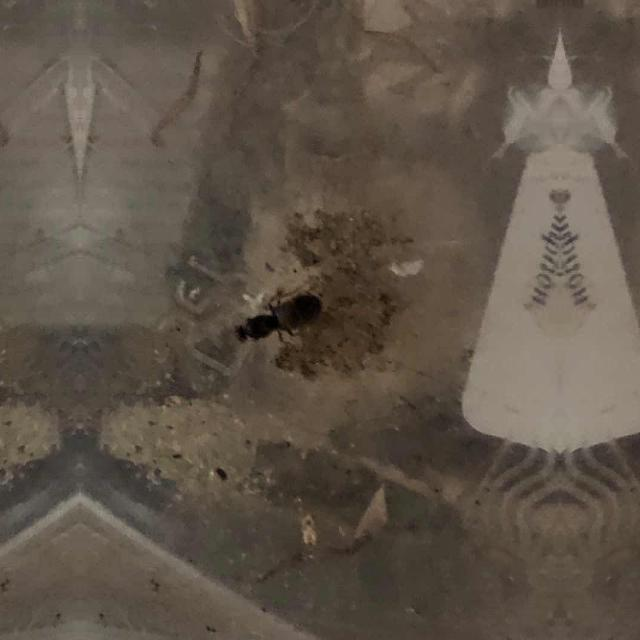Lasius: (215, 264, 341, 356)
